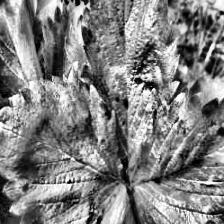Leaf Spot: (80, 0, 182, 188), (0, 75, 128, 224), (132, 91, 224, 224)
